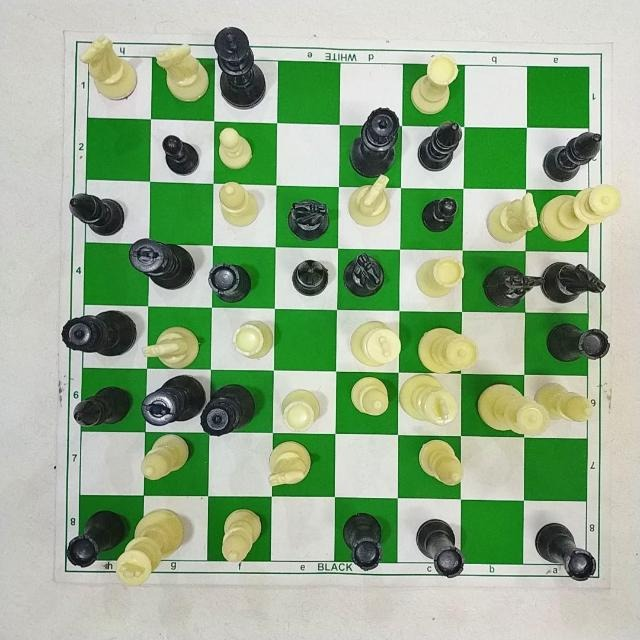black-bishop: (540, 132, 603, 182), (71, 382, 132, 430), (70, 192, 126, 238), (417, 124, 461, 170), (293, 260, 329, 296)
black-king: (214, 26, 267, 110), (129, 237, 198, 289), (141, 377, 203, 427)
black-knight: (542, 262, 604, 302), (485, 266, 543, 308), (340, 252, 384, 297), (287, 199, 331, 241)
black-pawn: (159, 132, 202, 178), (417, 192, 459, 236)
black-queen: (55, 300, 141, 364), (350, 108, 399, 178), (201, 381, 257, 437)
black-rook: (542, 316, 611, 372), (535, 522, 597, 580), (67, 509, 127, 567), (415, 518, 463, 579), (342, 511, 384, 570), (204, 262, 254, 303)
white-bishop: (534, 376, 598, 426), (408, 434, 469, 486), (137, 429, 193, 485), (217, 505, 267, 567), (214, 177, 262, 231), (346, 373, 394, 422)
white-king: (112, 507, 185, 588), (399, 372, 461, 427), (347, 318, 402, 367)
white-knight: (152, 40, 213, 106), (82, 36, 138, 100), (141, 324, 202, 368), (265, 438, 315, 491), (489, 198, 537, 246), (348, 176, 392, 226)
white-pawn: (216, 126, 256, 174)
white-queen: (540, 183, 620, 241), (475, 381, 547, 436), (418, 327, 476, 375)
white-rook: (408, 56, 460, 117), (413, 252, 465, 300), (276, 389, 325, 431), (230, 320, 274, 362)
